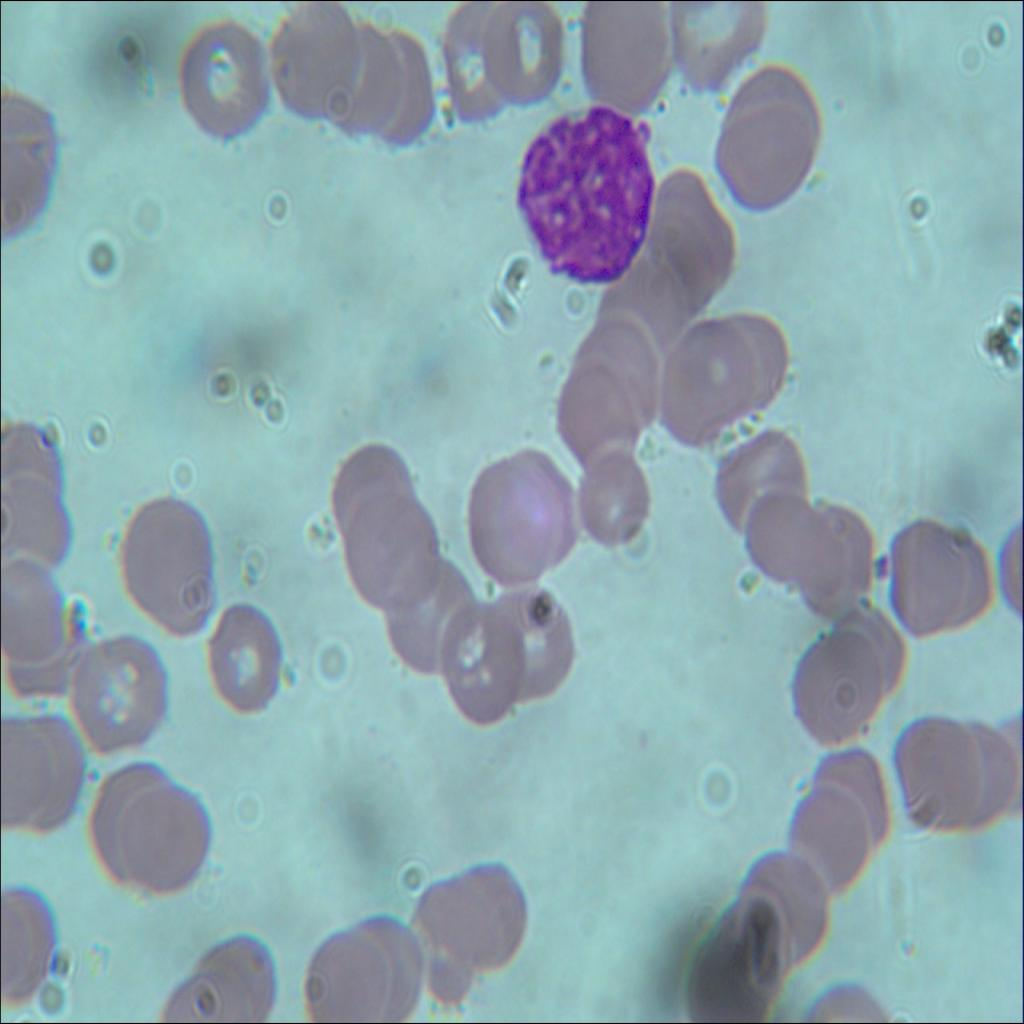Eritrosit: (716, 67, 826, 211), (116, 488, 221, 637), (456, 454, 562, 584), (898, 514, 996, 649), (575, 0, 679, 122), (649, 177, 741, 314), (175, 15, 269, 147), (711, 415, 804, 548), (268, 0, 368, 122), (566, 307, 662, 429), (438, 602, 524, 735), (792, 622, 882, 749), (330, 432, 416, 564), (662, 314, 750, 442), (391, 550, 478, 676), (86, 758, 171, 886), (551, 359, 639, 482), (348, 494, 438, 614), (124, 781, 215, 898), (734, 848, 828, 961), (81, 632, 166, 754), (491, 580, 574, 704), (896, 712, 986, 826), (0, 712, 84, 834), (688, 915, 782, 1023), (442, 852, 531, 966), (408, 870, 486, 1000), (204, 598, 286, 721), (473, 0, 570, 103), (744, 478, 828, 595), (321, 26, 404, 144), (793, 491, 871, 614), (786, 780, 872, 890), (344, 908, 426, 1023), (573, 441, 658, 547), (436, 0, 513, 117), (712, 304, 790, 418), (300, 930, 394, 1023), (668, 0, 766, 87), (603, 258, 681, 367), (810, 743, 890, 848), (200, 924, 278, 1023), (0, 472, 78, 570), (374, 28, 435, 151), (0, 554, 64, 671)
Limfoblast: (511, 104, 656, 296)
Platelet: (870, 548, 890, 578), (86, 758, 99, 788)
